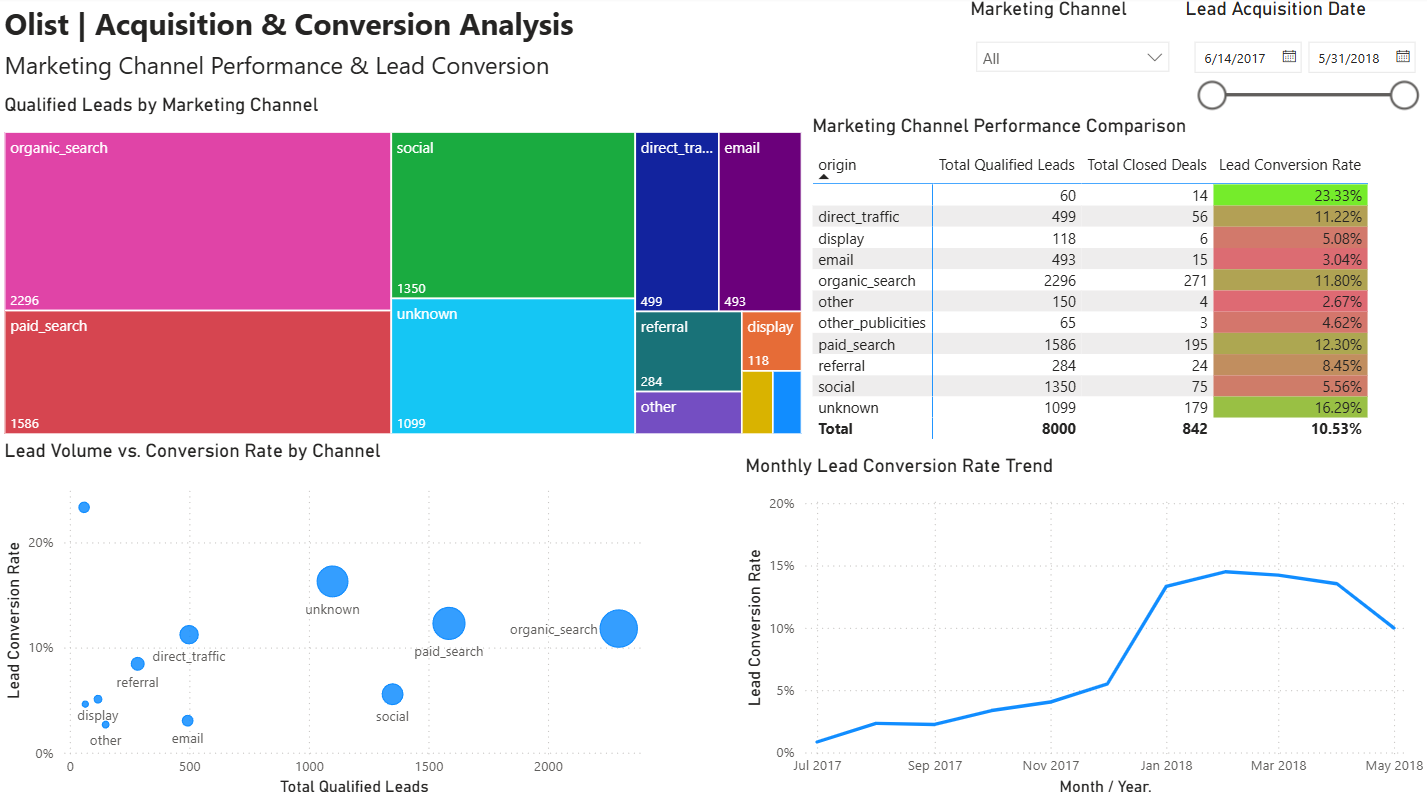

The page's visual inventory and layout, read from the dashboard file:
{"tool":"powerbi","page":{"name":"Acquisition & Conversion","canvas":[1280,720],"ordinal":1},"visuals":[{"type":"treemap","title":"Qualified Leads by Marketing Channel","fields":{"Group":["olist_marketing marketing_qualified_leads.origin"],"Values":["olist_marketing marketing_qualified_leads.Total Qualified Leads"]},"box":[0,85.6,723.6,310.3],"z":0},{"type":"pivotTable","title":"Marketing Channel Performance Comparison","fields":{"Rows":["olist_marketing marketing_qualified_leads.origin"],"Values":["olist_marketing marketing_qualified_leads.Total Qualified Leads","olist_marketing marketing_qualified_leads.Total Closed Deals","olist_marketing marketing_qualified_leads.Lead Conversion Rate"]},"box":[723.6,105,556.4,304.4],"z":1000},{"type":"scatterChart","title":"Lead Volume vs. Conversion Rate by Channel","fields":{"X":["olist_marketing marketing_qualified_leads.Total Qualified Leads"],"Y":["olist_marketing marketing_qualified_leads.Lead Conversion Rate"],"Category":["olist_marketing marketing_qualified_leads.origin"],"Size":["olist_marketing marketing_qualified_leads.Total Closed Deals"]},"box":[0,395.9,595.3,323.9],"z":2000},{"type":"lineChart","title":"Monthly Lead Conversion Rate Trend","fields":{"Category":["olist_marketing marketing_qualified_leads.contact_date_clean.Variation.Date Hierarchy.Year","olist_marketing marketing_qualified_leads.contact_date_clean.Variation.Date Hierarchy.Month"],"Y":["olist_marketing marketing_qualified_leads.Lead Conversion Rate"]},"box":[663.3,409.5,616.7,310.3],"z":3000},{"type":"textbox","box":[0,0,554.4,48.6],"z":4000},{"type":"textbox","box":[0,40.9,595.3,44.7],"z":5000},{"type":"slicer","title":"Marketing Channel","fields":{"Values":["olist_marketing marketing_qualified_leads.origin"]},"box":[865.1,0,192.6,85.6],"z":6000},{"type":"slicer","title":"Lead Acquisition Date","fields":{"Values":["olist_marketing marketing_qualified_leads.contact_date_clean"]},"box":[1057.6,0,221.8,105],"z":7000}]}

Visuals, with their boxes in screenshot pixels (x1, y1, x2, y2), scaled from the page's 1280x720 canvas onto the 1427x799 screenshot:
"Qualified Leads by Marketing Channel" treemap: (x1=0, y1=95, x2=807, y2=439)
"Marketing Channel Performance Comparison" pivotTable: (x1=807, y1=117, x2=1426, y2=454)
"Lead Volume vs. Conversion Rate by Channel" scatterChart: (x1=0, y1=439, x2=664, y2=798)
"Monthly Lead Conversion Rate Trend" lineChart: (x1=739, y1=454, x2=1426, y2=798)
textbox: (x1=0, y1=0, x2=618, y2=54)
textbox: (x1=0, y1=45, x2=664, y2=95)
"Marketing Channel" slicer: (x1=964, y1=0, x2=1179, y2=95)
"Lead Acquisition Date" slicer: (x1=1179, y1=0, x2=1426, y2=117)
